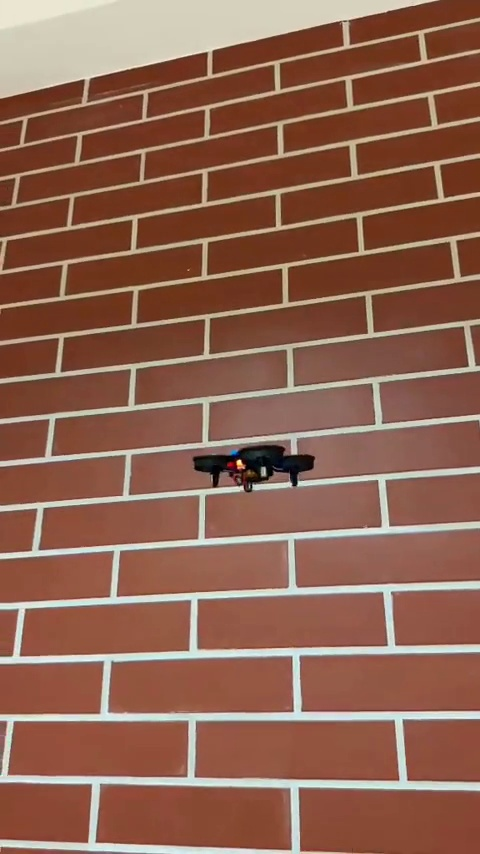drone: (192, 445, 316, 493)
